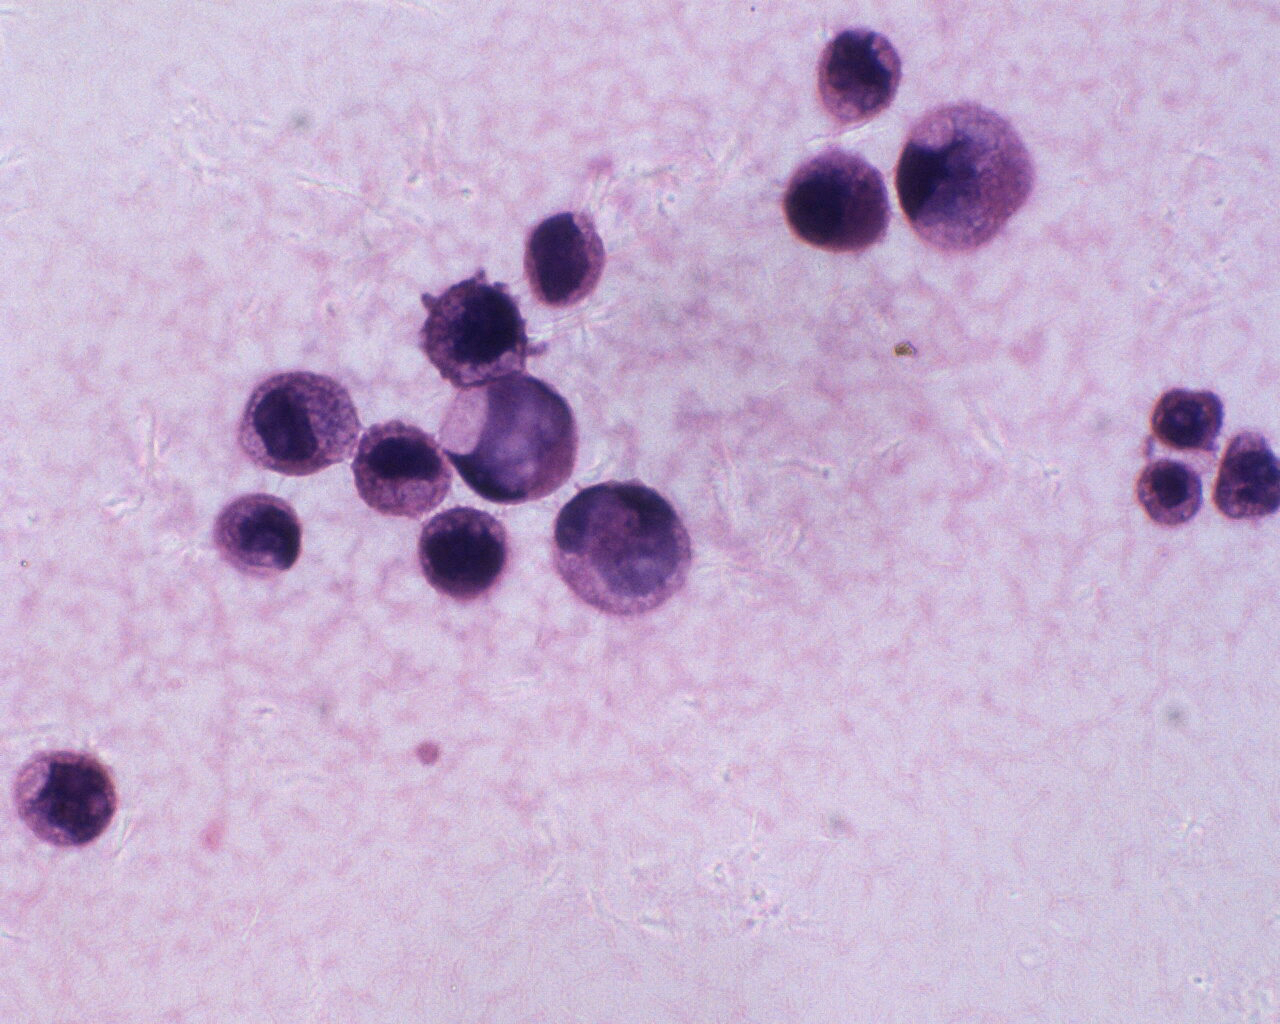ab: (897, 98, 1037, 258), (232, 363, 362, 482), (778, 147, 894, 259), (423, 272, 535, 386), (7, 748, 120, 851), (352, 415, 456, 523), (417, 507, 515, 606), (810, 26, 907, 126), (522, 203, 611, 309), (215, 492, 310, 581), (1149, 381, 1229, 453), (1134, 458, 1208, 529)
